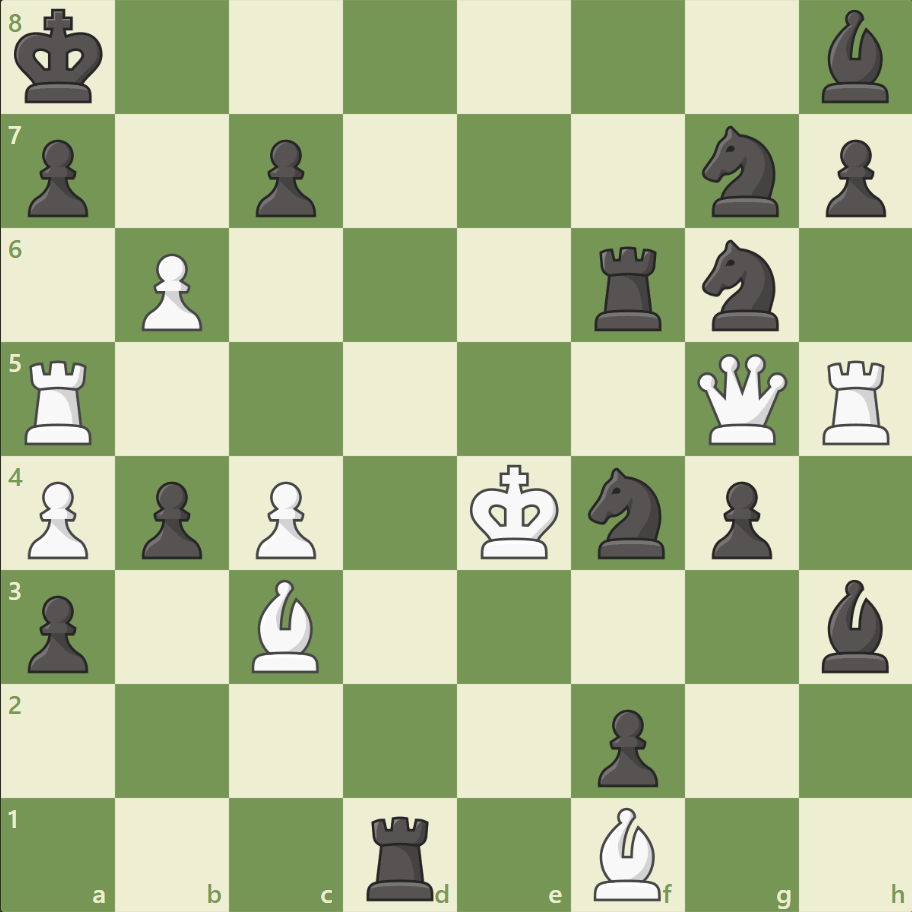B: (585, 801, 669, 904), (244, 574, 328, 676)
K: (465, 458, 565, 566)
P: (133, 246, 208, 337), (20, 473, 95, 564), (247, 473, 322, 564)
Q: (691, 349, 790, 449)
R: (19, 352, 102, 449), (814, 352, 897, 449)
b: (812, 6, 896, 109), (812, 574, 896, 676)
k: (11, 4, 111, 112)
n: (692, 234, 789, 337), (579, 461, 676, 564), (692, 121, 789, 223)
p: (20, 132, 95, 223), (247, 132, 322, 223), (133, 473, 208, 564), (701, 473, 776, 564), (20, 586, 95, 677), (815, 132, 889, 223), (588, 700, 662, 791)
r: (587, 239, 670, 336), (360, 806, 442, 904)
